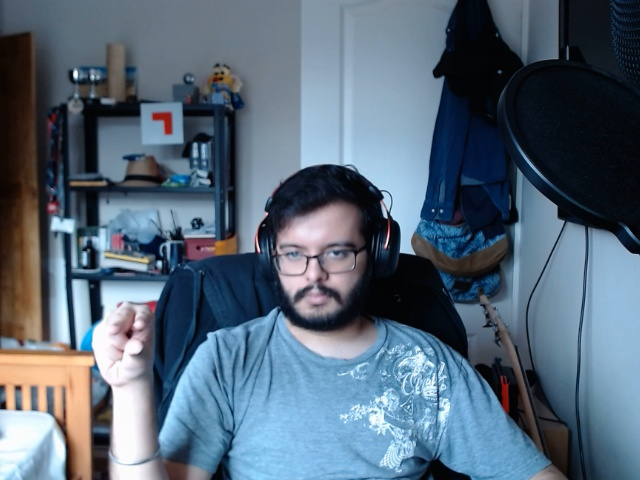No: (88, 295, 170, 404)
